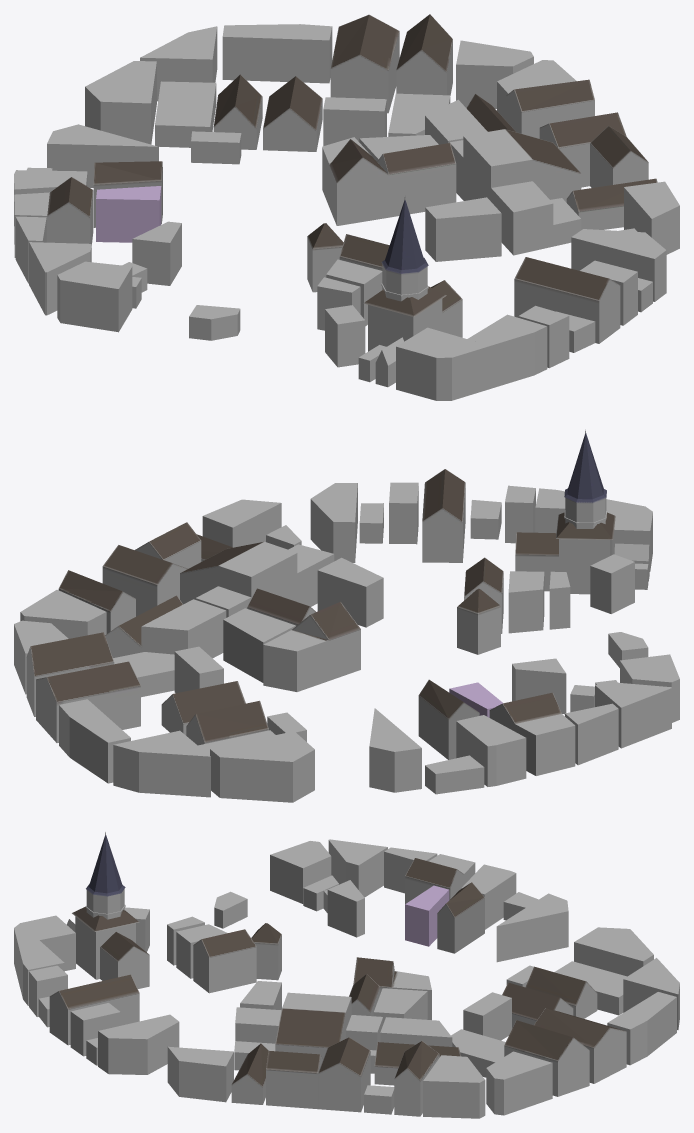
The model's file is City_placeholders.fbx.
3 views of the same model, one above another, from view 1: azimuth 30°, elevation 25°; view 2: azimuth 150°, elevation 25°; view 3: azimuth 270°, elevation 25° (orthographic). The views are drawn at different scales.
Parts seen in each view (by area): view 1: City_placeholders_Baked; view 2: City_placeholders_Baked; view 3: City_placeholders_Baked.
Boxes of the visible parts, x1,y1,x2,y2 form: City_placeholders_Baked: (14,14,679,400); City_placeholders_Baked: (14,429,679,802); City_placeholders_Baked: (14,832,679,1118).
Size of the model in its own units: 8720 by 2269 by 10081.
1 material, 1 textured.
